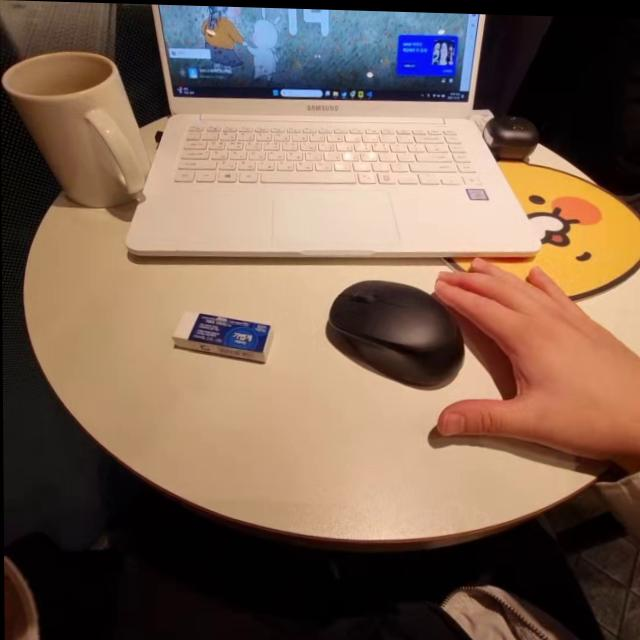eraser: (162, 305, 277, 377)
grab_mouse: (324, 270, 607, 475)
